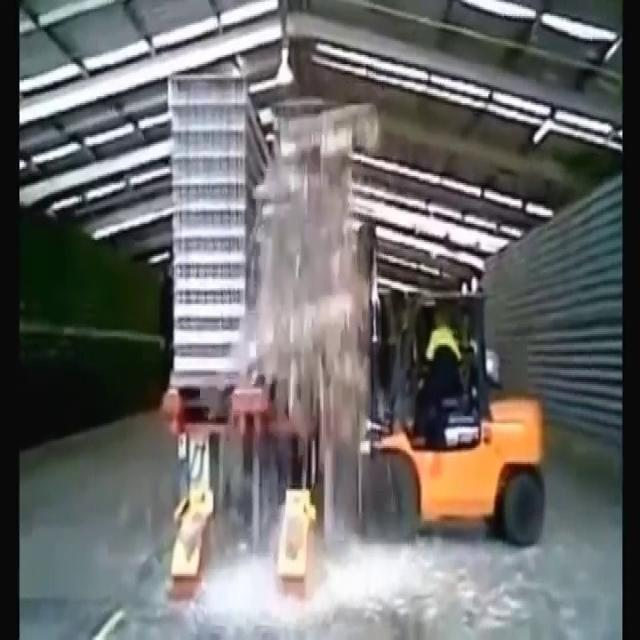forklift: (352, 217, 554, 553)
